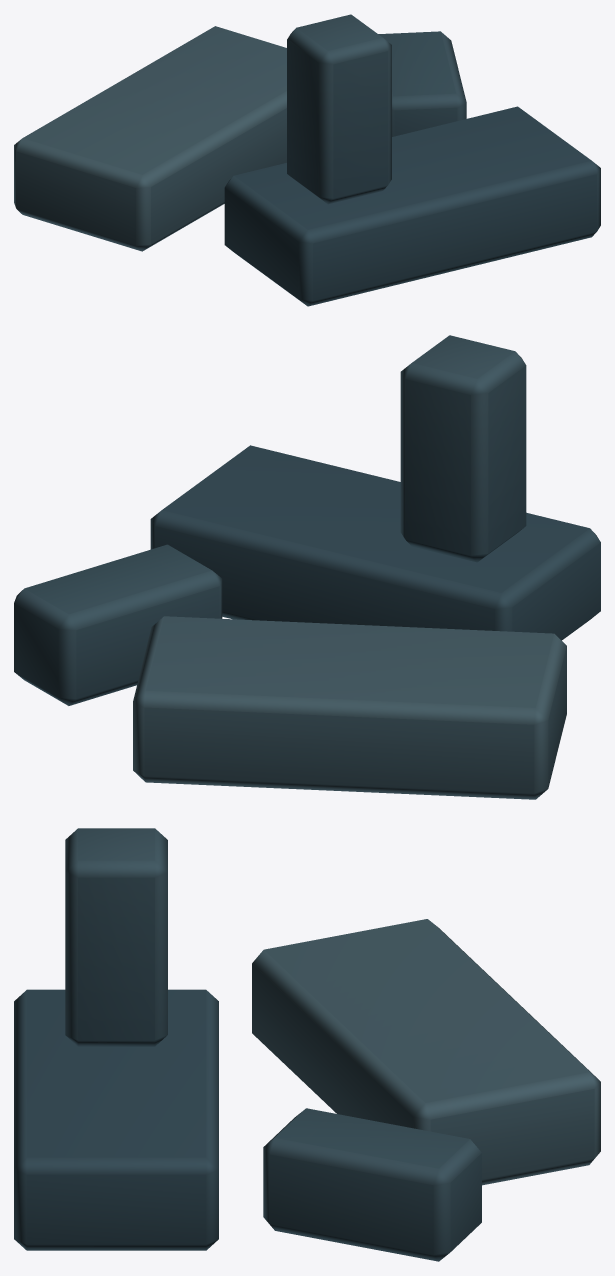
The model's file is fence_01_broken_hue_3.fbx.
The picture shows the model from 3 angles, top to bottom: view 1: azimuth 30°, elevation 25°; view 2: azimuth 150°, elevation 25°; view 3: azimuth 270°, elevation 25°; orthographic projection. The views are drawn at different scales.
Parts seen in each view (by area): view 1: fence_01_broken_hue_3; view 2: fence_01_broken_hue_3; view 3: fence_01_broken_hue_3.
Boxes of the visible parts, <box> form: fence_01_broken_hue_3: <box>14,14,600,306</box>; fence_01_broken_hue_3: <box>14,335,600,799</box>; fence_01_broken_hue_3: <box>14,828,600,1261</box>.
Bounding box in the file's own units: 150 × 75 × 143.
